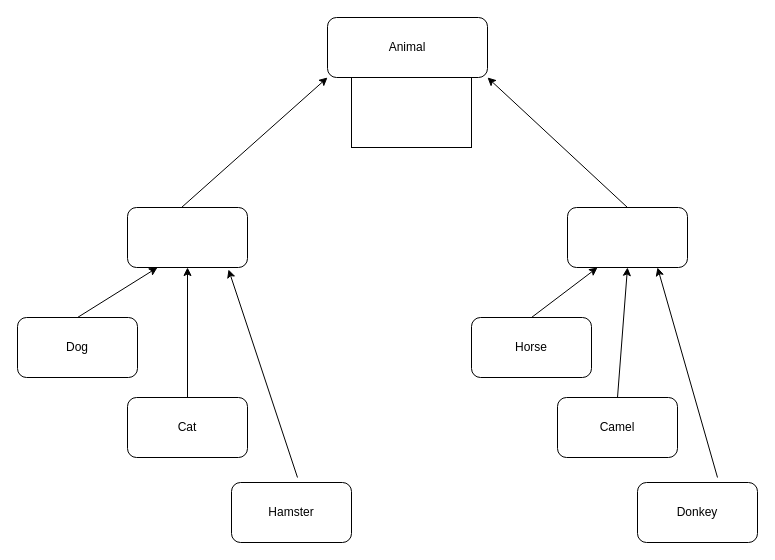
Image size: 775x560. Some labels were removed from this diagram. The shapes that lost their labels are listed below. From the top down, each one's centre as x and y in pixels, then its label:
the point at 411,102: Name Date_of_Birth Command
the point at 187,237: Pet
the point at 627,237: Pack Animal
